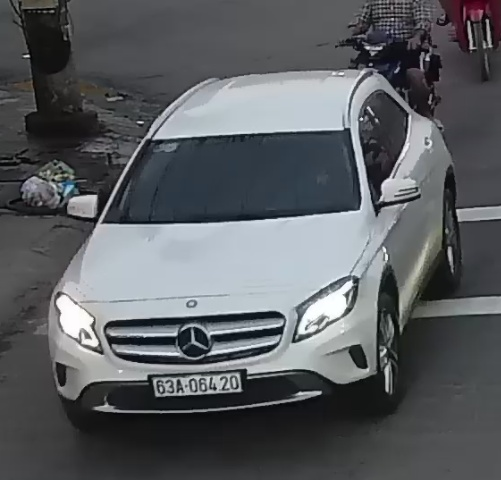vehicle plate: (142, 366, 261, 402)
